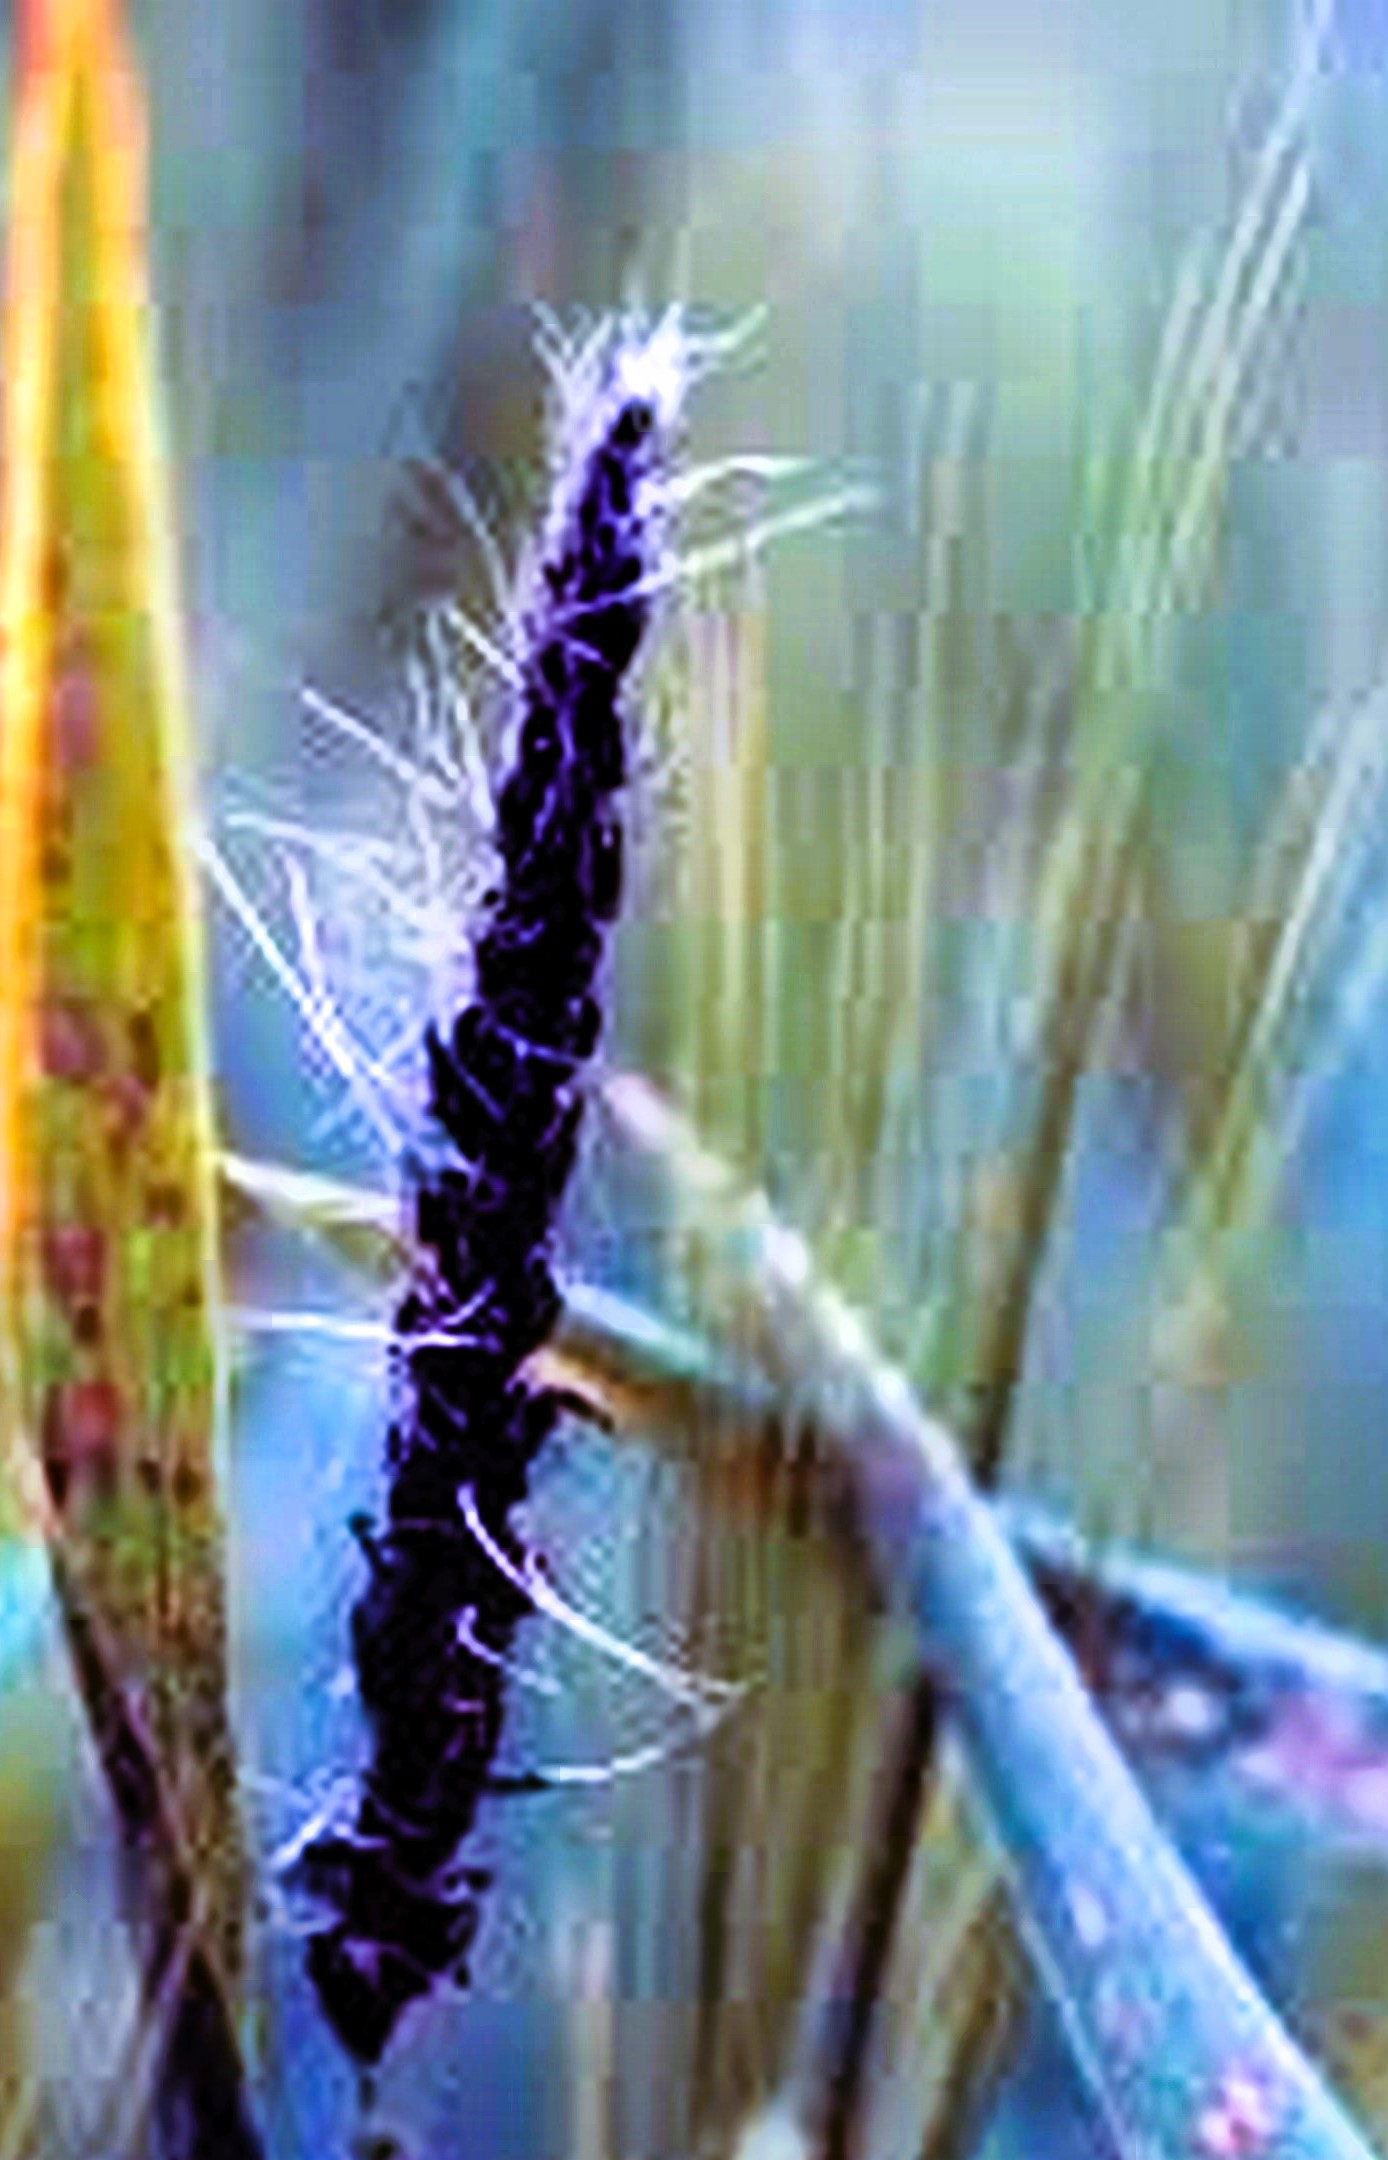Wheat Loose Smut: (302, 345, 743, 1496)
